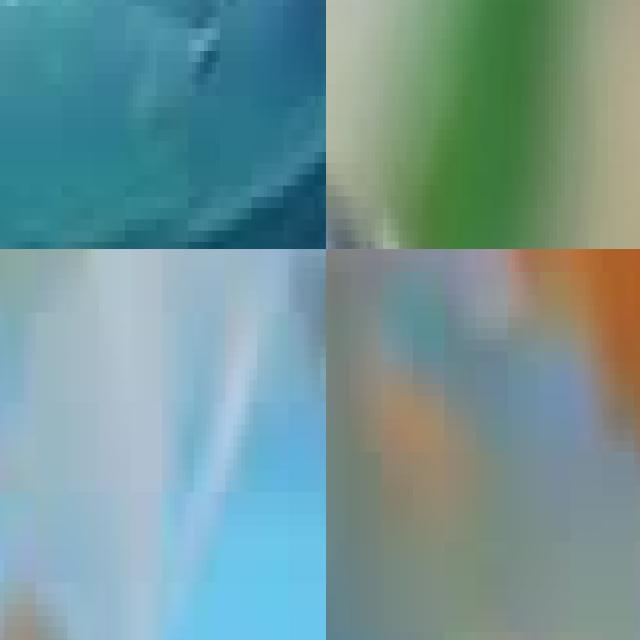fish: (326, 249, 640, 564), (0, 0, 326, 249), (326, 0, 640, 249)
